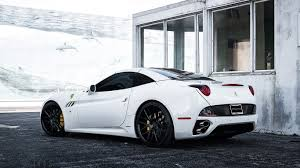car: (37, 65, 262, 149)
